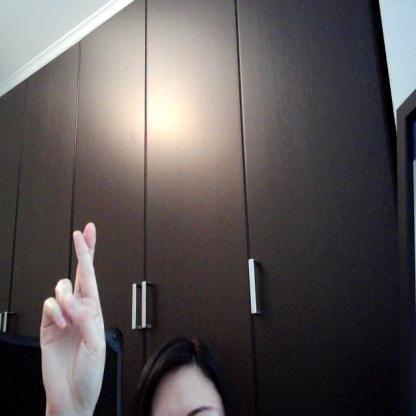right: (30, 213, 123, 415)
